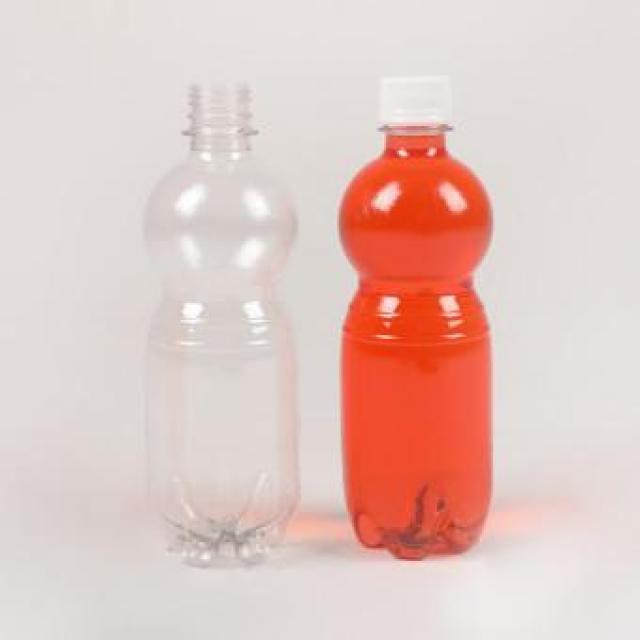bottle: (313, 67, 523, 587), (120, 62, 319, 565)
